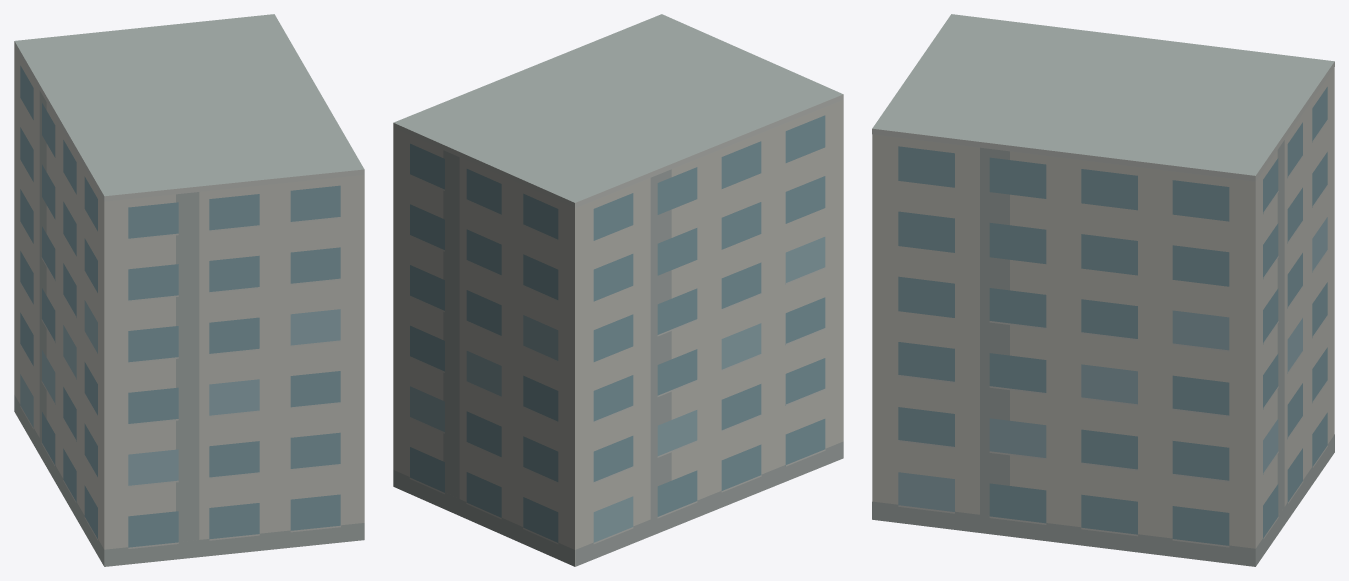
Rendered from survey-upis-32870916.glb.
The picture shows the model from 3 angles, left to right: view 1: azimuth 30°, elevation 25°; view 2: azimuth 150°, elevation 25°; view 3: azimuth 270°, elevation 25°; orthographic projection. The views are drawn at different scales.
Visible parts, largest first — view 1: survey-upis-32870916.tmp; view 2: survey-upis-32870916.tmp; view 3: survey-upis-32870916.tmp.
Boxes of the visible parts, left/top/right/bottom form: survey-upis-32870916.tmp: left=14, top=14, right=364, bottom=566; survey-upis-32870916.tmp: left=393, top=14, right=843, bottom=566; survey-upis-32870916.tmp: left=872, top=14, right=1334, bottom=566.
Bounding box in the file's own units: 14.74 × 16.6 × 17.81.
